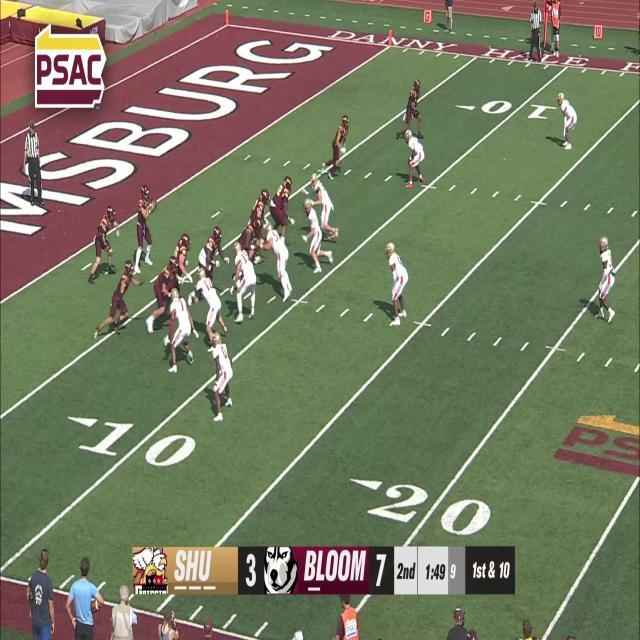football: (150, 198, 158, 211)
